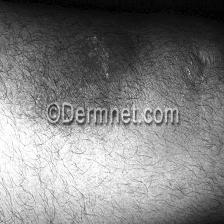Non-Cancerous Skin Condition: (31, 21, 144, 99)
